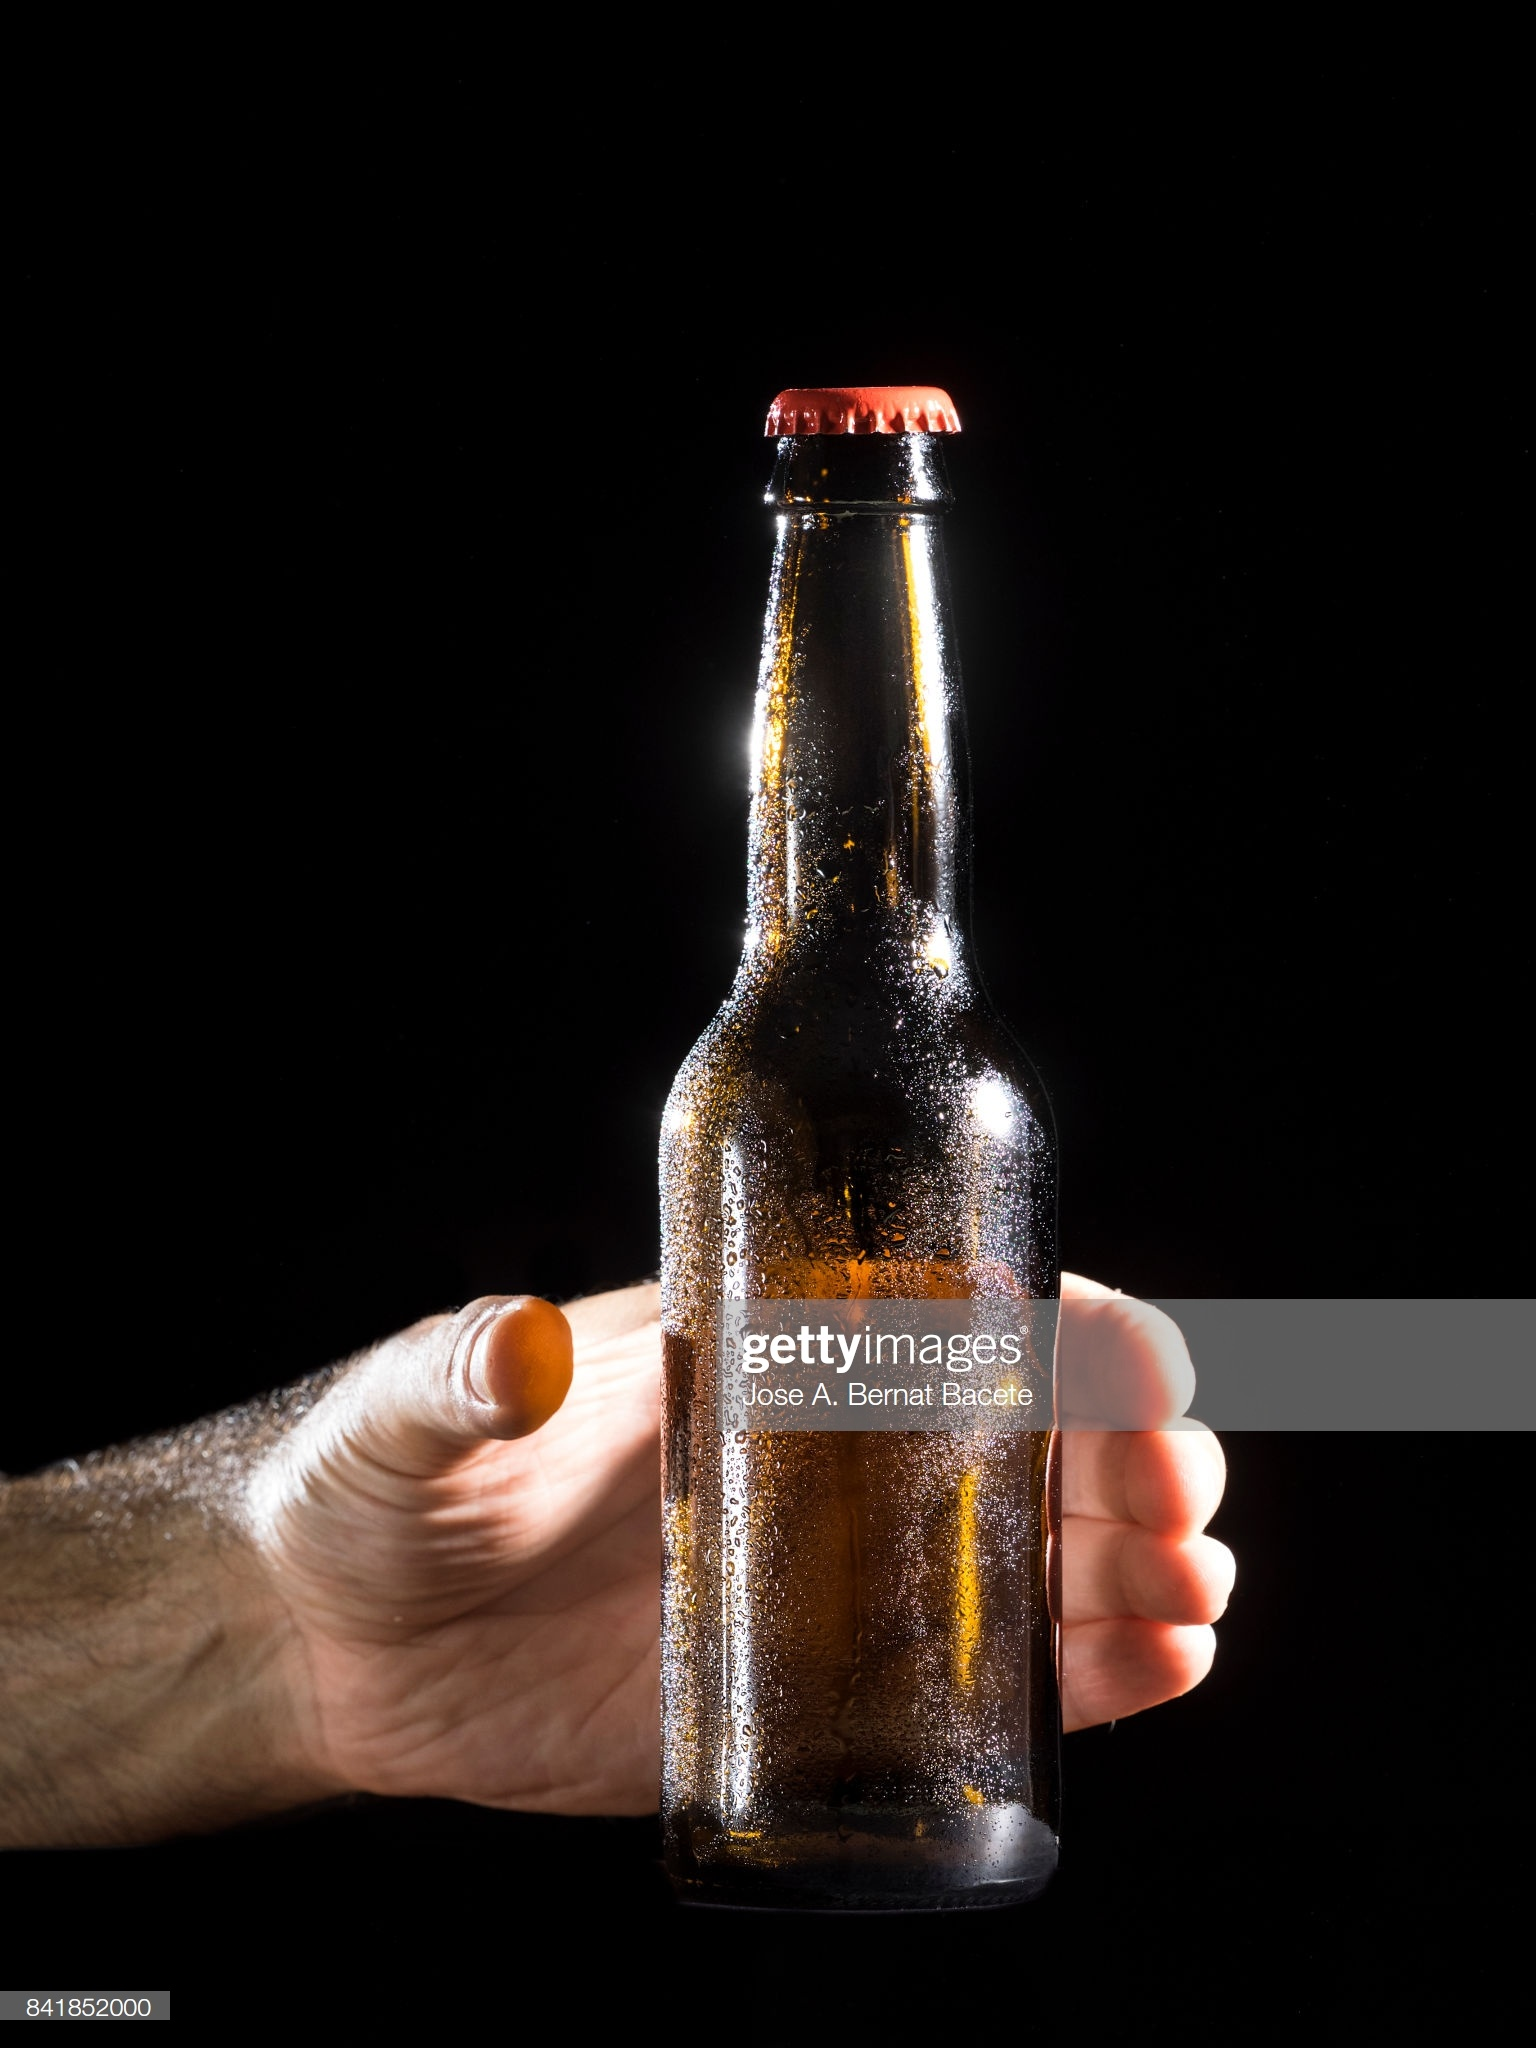beerBottle: (650, 348, 1070, 1921)
